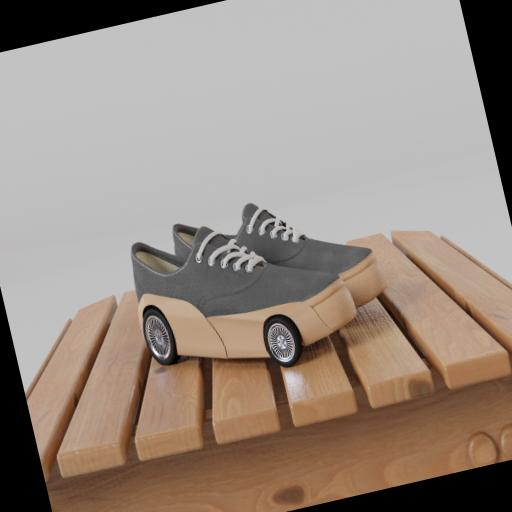shoe: (131, 227, 355, 366), (226, 204, 386, 308)
